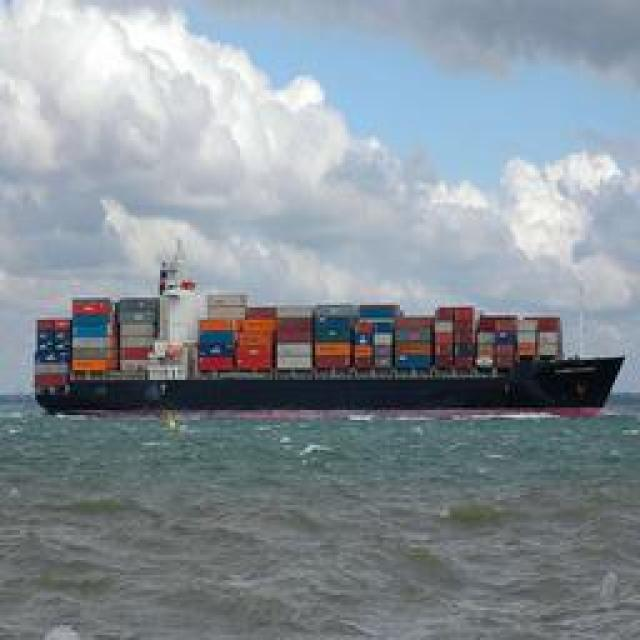ship: (9, 260, 629, 422)
